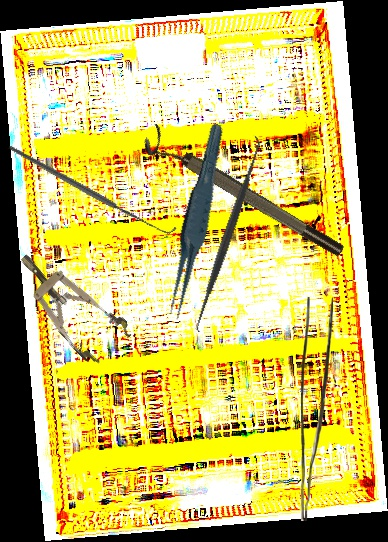Fixation Ring: (139, 123, 347, 269)
Hook Surgical: (6, 94, 178, 283)
Spatula Surgical: (184, 133, 272, 335)
Speculum: (3, 236, 136, 371)
Tissue Forceps: (152, 122, 238, 324), (301, 297, 333, 521)
